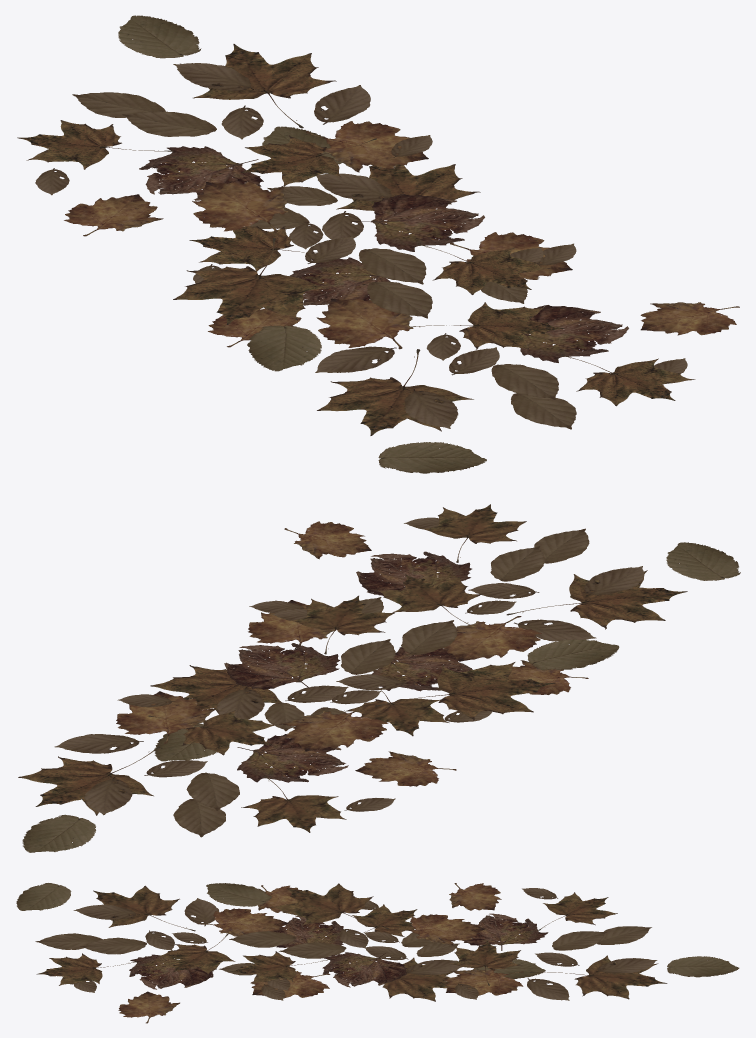
The model's file is SM_S_Soul_Leaves1.b4a8eeb3.glb.
The picture shows the model from 3 angles, top to bottom: view 1: azimuth 30°, elevation 25°; view 2: azimuth 150°, elevation 25°; view 3: azimuth 270°, elevation 25°; orthographic projection. The views are drawn at different scales.
Visible parts, largest first — view 1: SM_S_Soul_Leaves1; view 2: SM_S_Soul_Leaves1; view 3: SM_S_Soul_Leaves1.
Boxes of the visible parts, left/top/right/bottom form: SM_S_Soul_Leaves1: left=17, top=15, right=739, bottom=473; SM_S_Soul_Leaves1: left=18, top=504, right=740, bottom=852; SM_S_Soul_Leaves1: left=16, top=883, right=739, bottom=1023.
Bounding box in the file's own units: 2.03 × 0.0288 × 4.42.
Materials: 1 (1 with a texture image).
